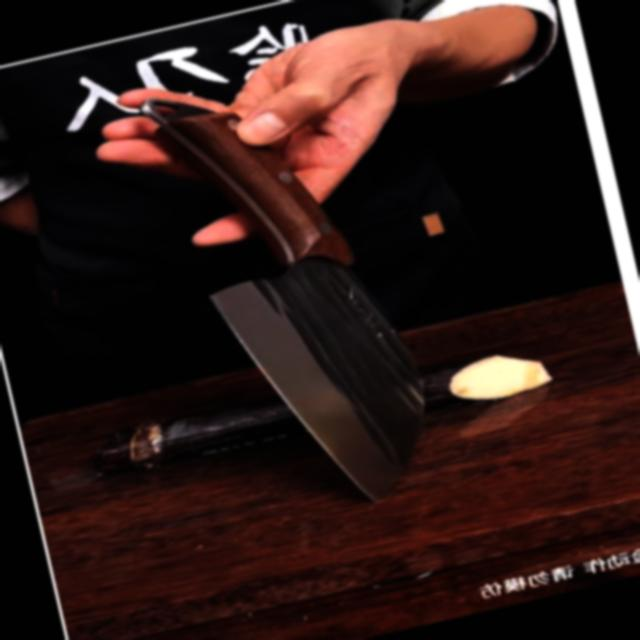knife: (70, 15, 507, 552)
